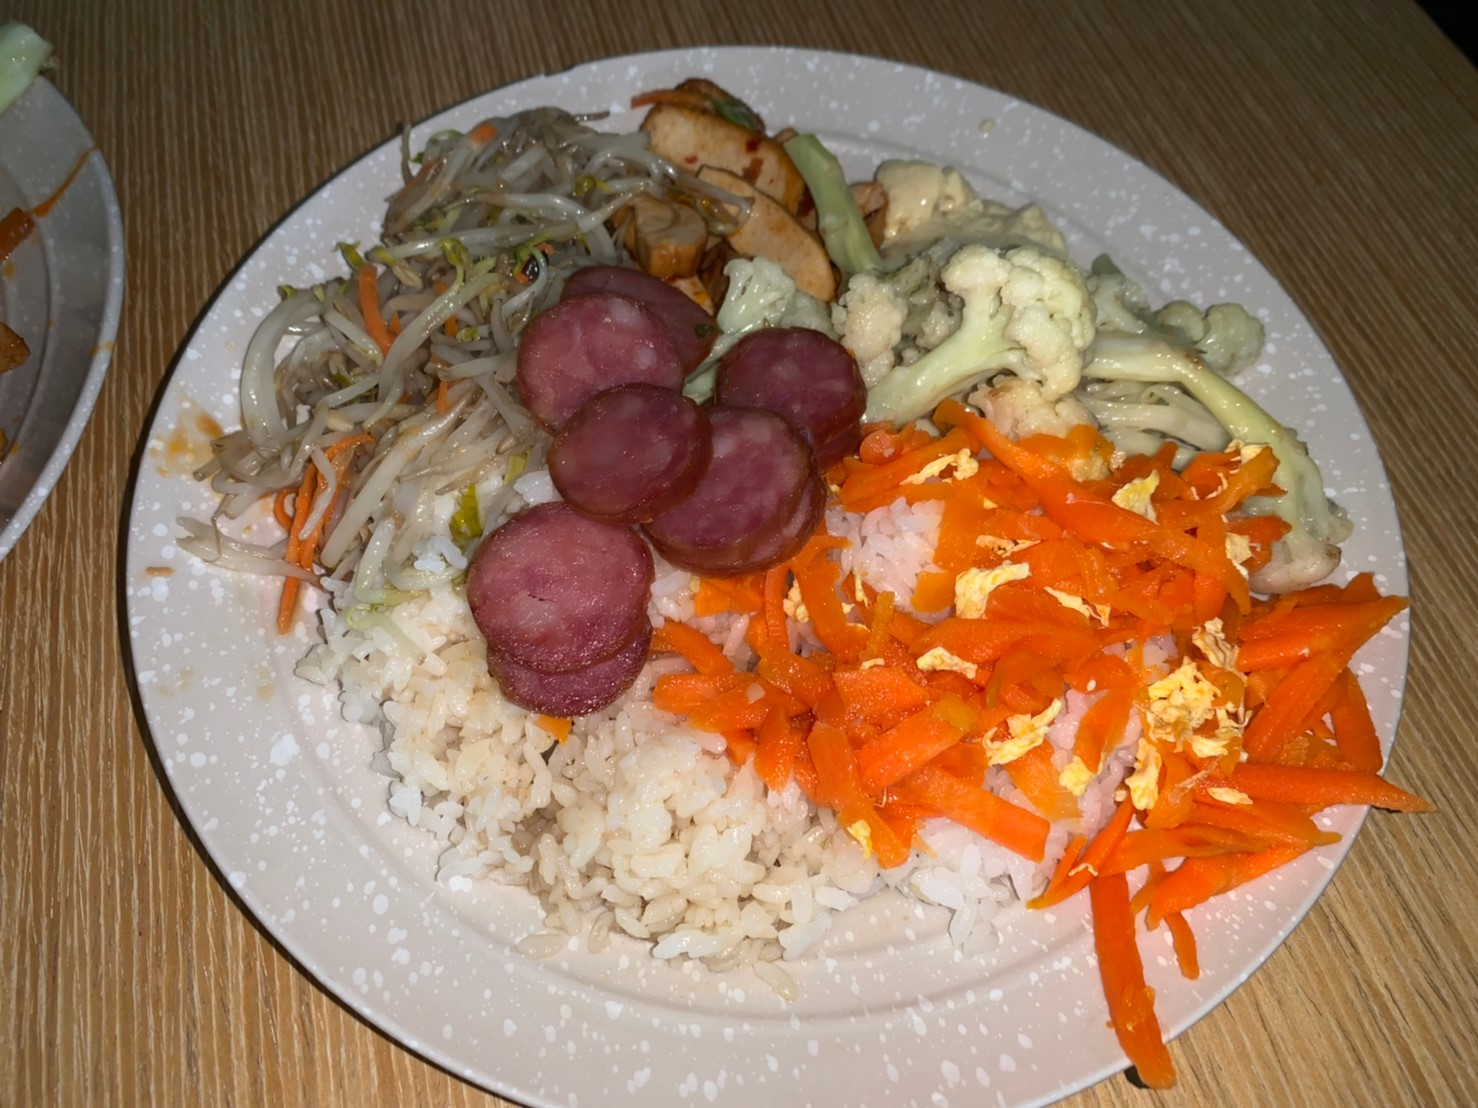carrot_eggs: (819, 429, 1417, 878)
chinese_sausage: (469, 264, 865, 715)
mung_bean_sprouts: (202, 106, 654, 485)
rice: (286, 684, 786, 972)
